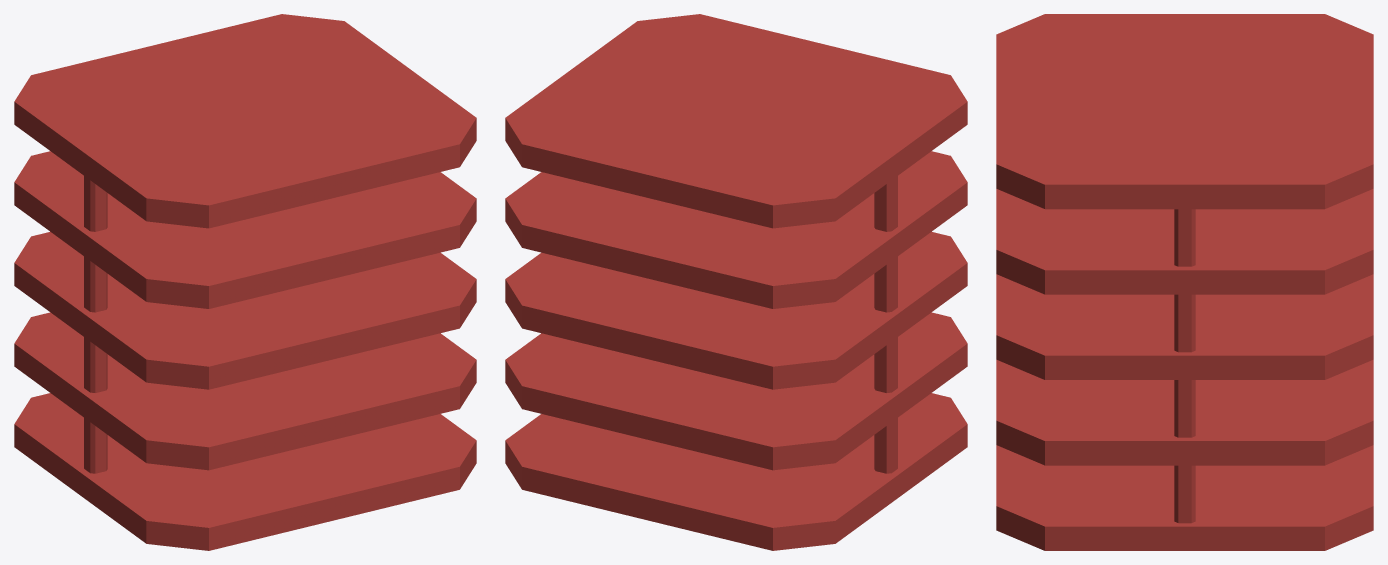
Rendered from fins_lod1.glb.
The picture shows the model from 3 angles, left to right: view 1: azimuth 30°, elevation 25°; view 2: azimuth 150°, elevation 25°; view 3: azimuth 270°, elevation 25°; orthographic projection. The views are drawn at different scales.
Parts seen in each view (by area): view 1: fins_lod1; view 2: fins_lod1; view 3: fins_lod1.
Boxes of the visible parts, bbox=[...] form: fins_lod1: bbox=[14, 14, 476, 550]; fins_lod1: bbox=[505, 14, 967, 550]; fins_lod1: bbox=[996, 14, 1373, 550].
Bounding box in the file's own units: 0.15 × 0.15 × 0.14.
